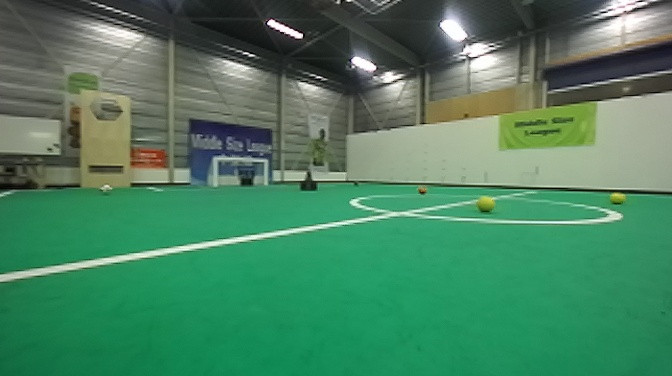ball: (476, 196, 498, 213), (608, 190, 626, 207), (99, 183, 113, 197), (417, 184, 428, 194)
goal: (207, 153, 270, 189)
robot: (298, 165, 320, 191), (237, 166, 256, 186)
